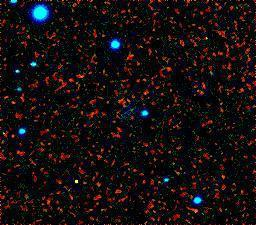star: (60, 168, 90, 198)
